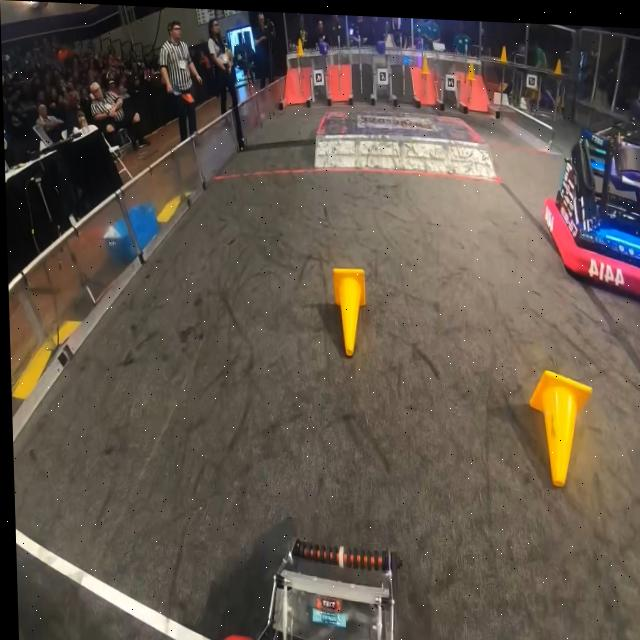robot: (541, 135, 640, 295), (581, 113, 636, 144)
